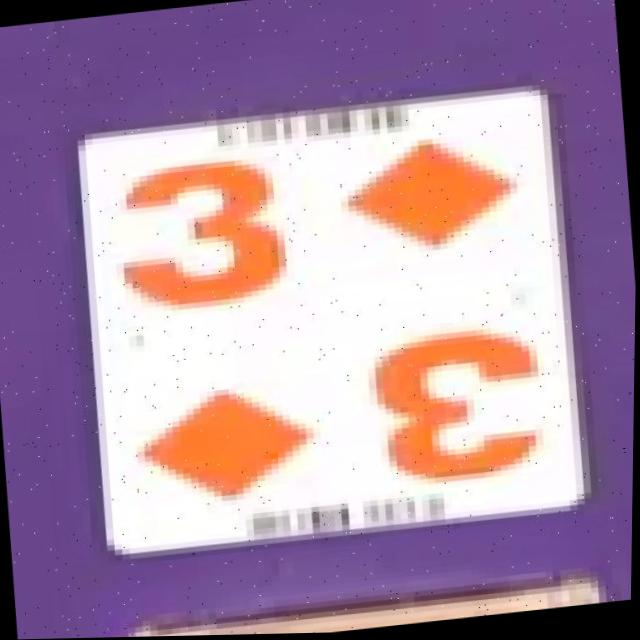Card-3: (86, 89, 579, 556)
